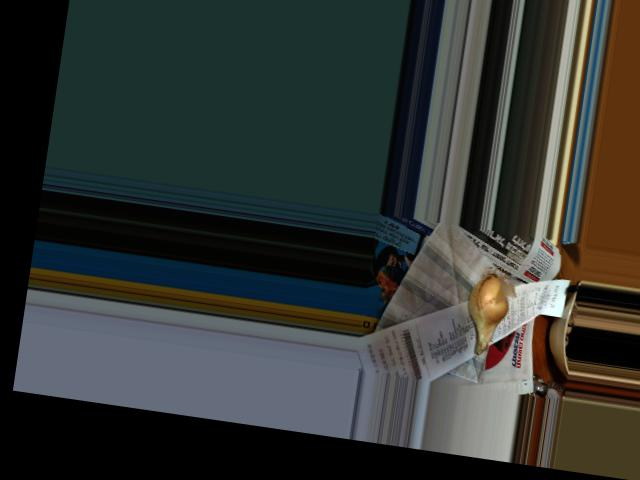onion: (461, 272, 516, 352)
